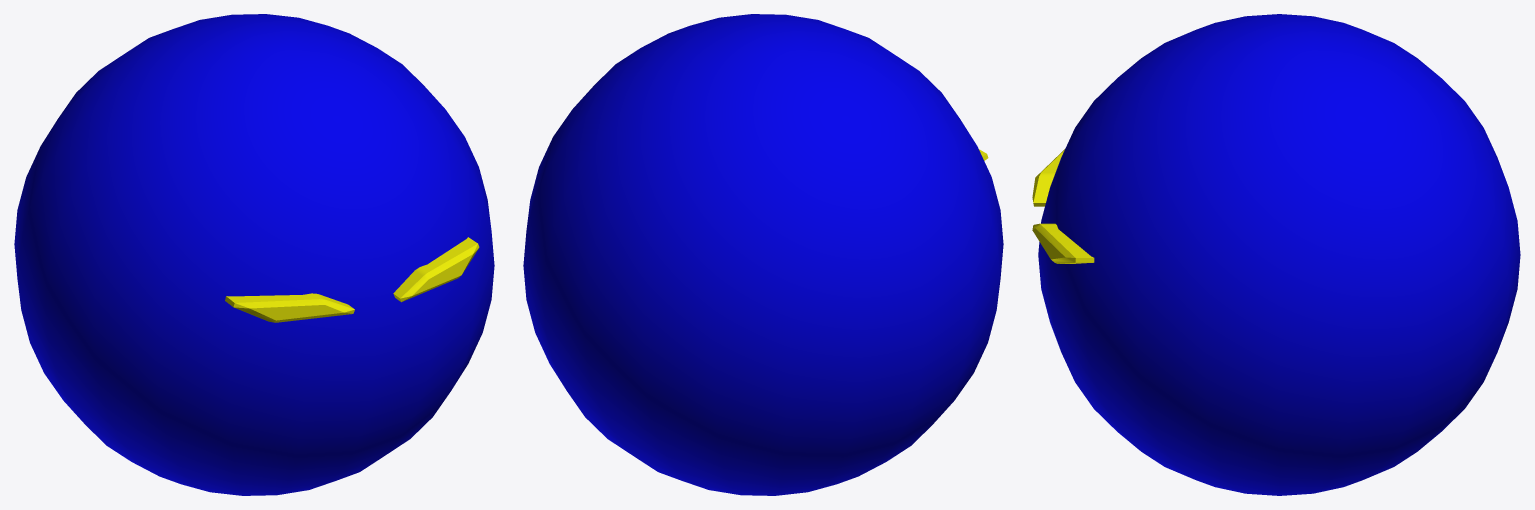
File: enemy_tank.fbx
The picture shows the model from 3 angles, left to right: view 1: azimuth 30°, elevation 25°; view 2: azimuth 150°, elevation 25°; view 3: azimuth 270°, elevation 25°; orthographic projection.
Parts seen in each view (by area): view 1: pSphere1, pCube1; view 2: pSphere1; view 3: pSphere1, pCube1.
Boxes of the visible parts, left/top/right/bottom form: pSphere1: left=14, top=14, right=494, bottom=495; pCube1: left=225, top=237, right=479, bottom=322; pSphere1: left=523, top=14, right=1003, bottom=495; pSphere1: left=1038, top=14, right=1520, bottom=495; pCube1: left=1032, top=149, right=1094, bottom=263.
Bounding box in the file's own units: 2 × 2 × 2.02.
